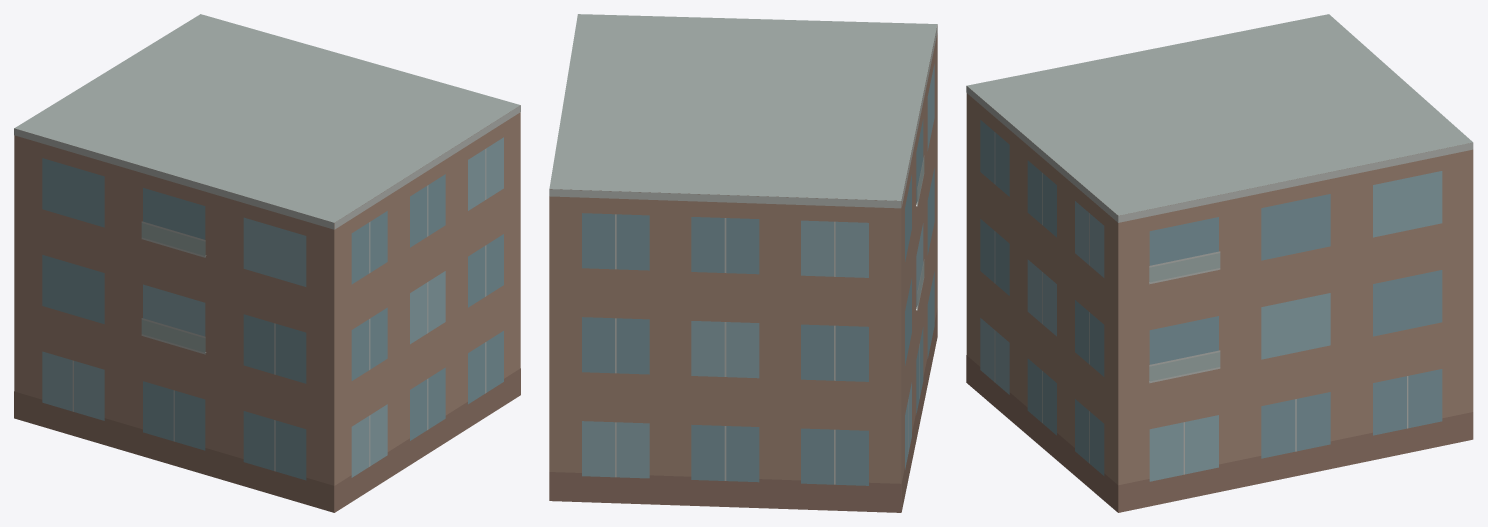
Rendered from survey-upis-32930026.glb.
3 renders of one model, left to right at view 1: azimuth 30°, elevation 25°; view 2: azimuth 150°, elevation 25°; view 3: azimuth 270°, elevation 25°, orthographic. The views are drawn at different scales.
Visible parts, largest first — view 1: survey-upis-32930026.tmp; view 2: survey-upis-32930026.tmp; view 3: survey-upis-32930026.tmp.
Part boxes in pixels (x1,y1,x2,y2): survey-upis-32930026.tmp: (14,14,520,512); survey-upis-32930026.tmp: (549,14,937,512); survey-upis-32930026.tmp: (966,14,1473,512).
Size of the model in its own units: 14.87 by 10.2 by 15.78.
